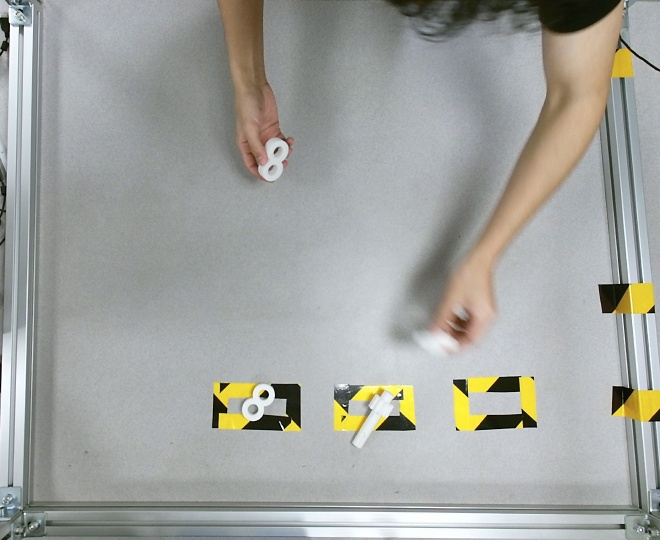stage_1: (258, 137, 289, 181)
